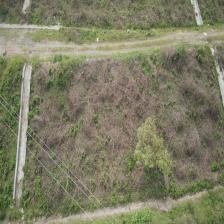slope_drain: (13, 63, 32, 202)
vegetation: (134, 117, 172, 171)
